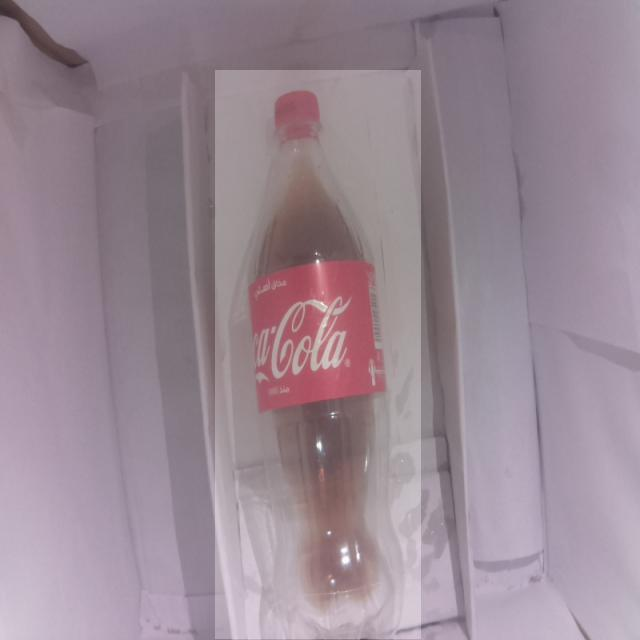BIODEGRADABLE: (215, 70, 421, 639)
